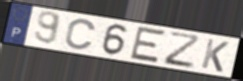6: (101, 23, 129, 57)
9: (34, 10, 63, 48)
C: (63, 18, 98, 51)
E: (128, 25, 168, 65)
K: (199, 37, 231, 74)
Z: (164, 31, 203, 70)
